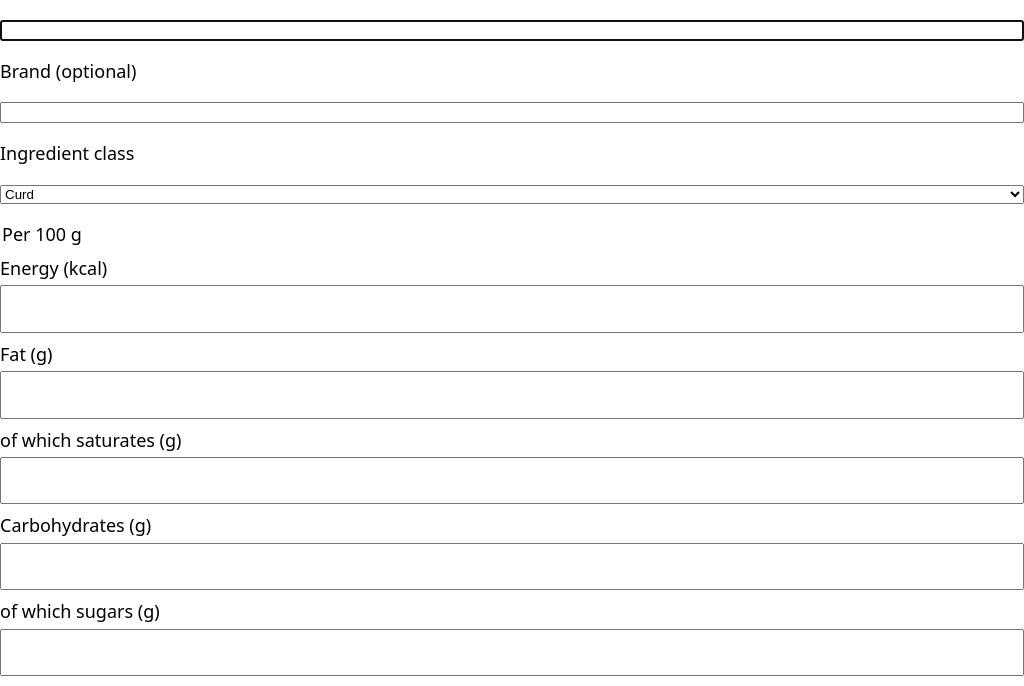
Test case: the product form › #64-2: a negative, malformed or too large value is named on its field and nothing is sent
Type "x" into the field labelled "Name".
click(512, 31); type("x")  # box [0, 20, 1023, 41]
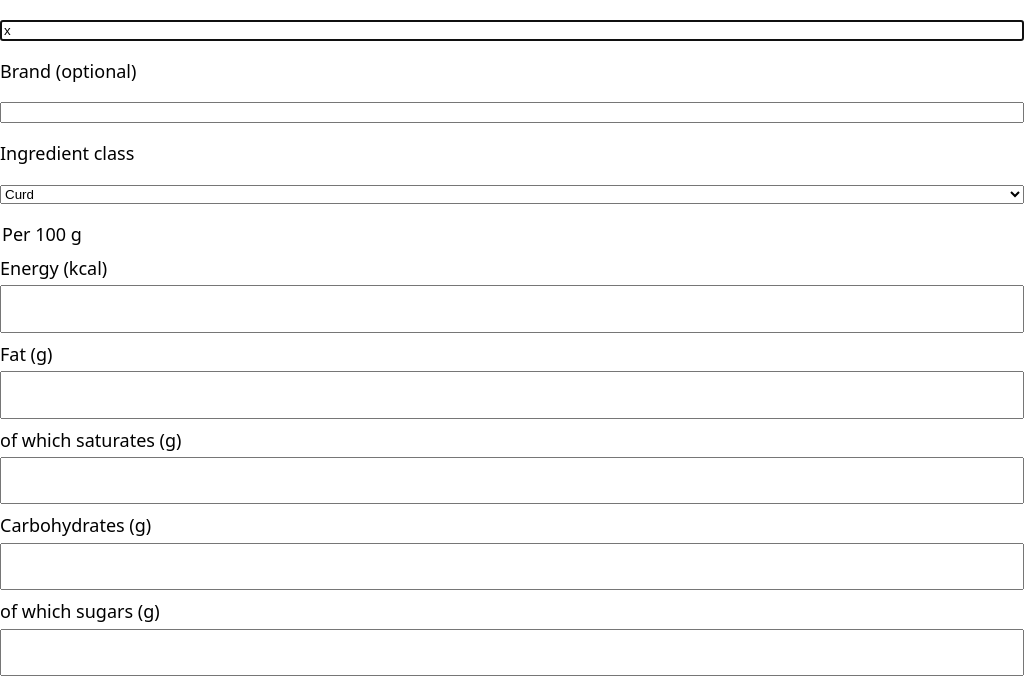
Type "-1" into the field labelled "Fat (g)".
click(512, 395); type("-1")  # box [0, 371, 1023, 418]
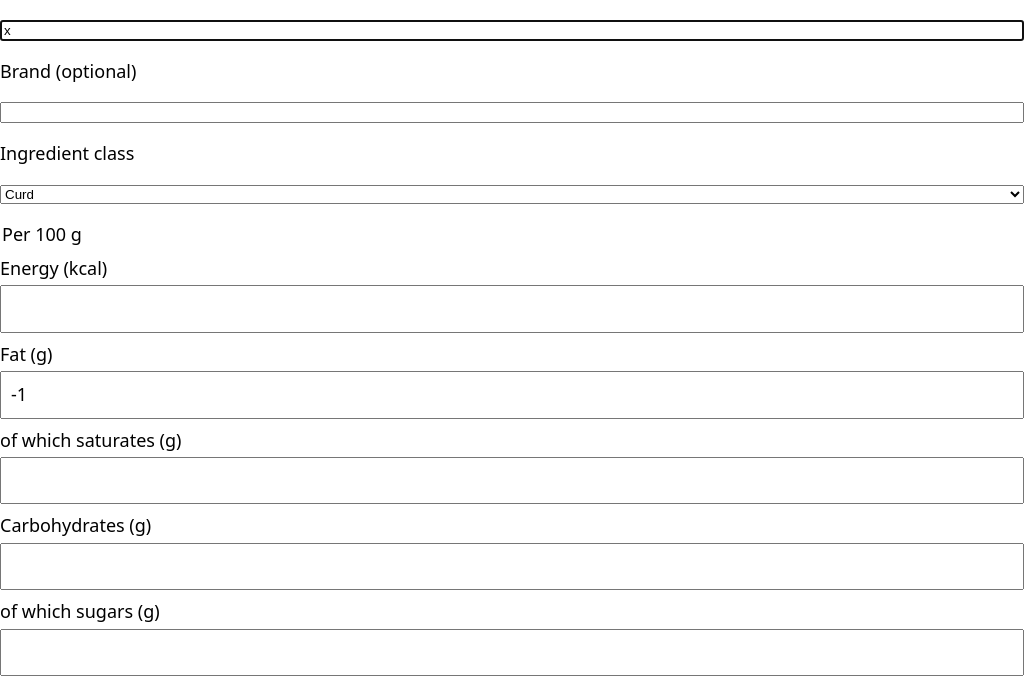
Type "abc" into the field labelled "of which sugars (g)".
click(512, 652); type("abc")  # box [0, 629, 1023, 676]
(page scrolled)
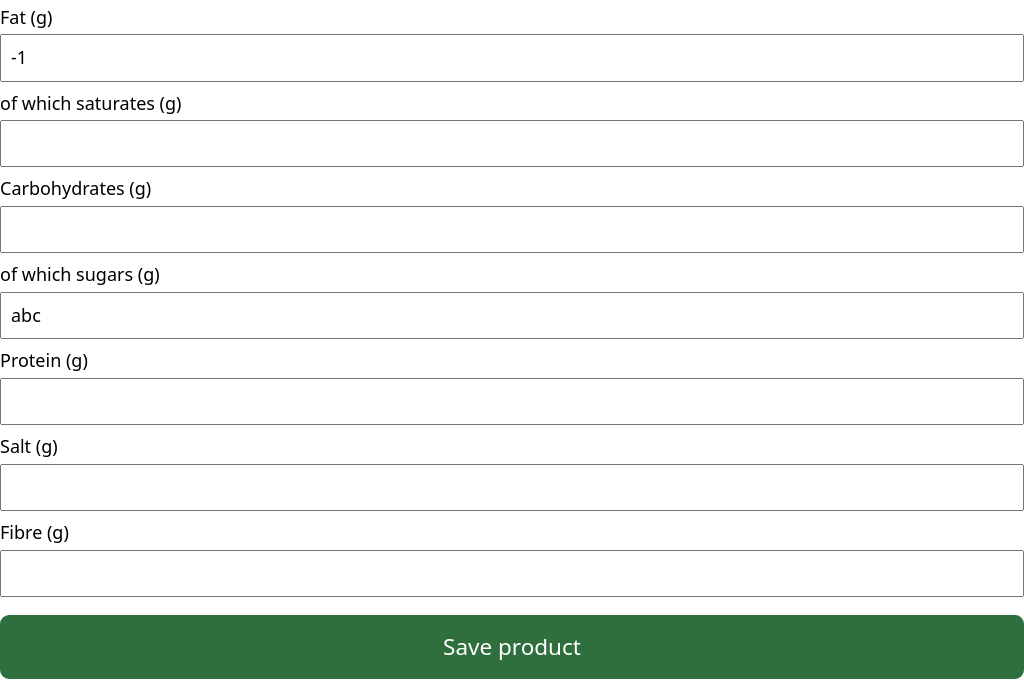
Type "101" into the field labelled "Salt (g)".
click(512, 487); type("101")  # box [0, 464, 1023, 511]
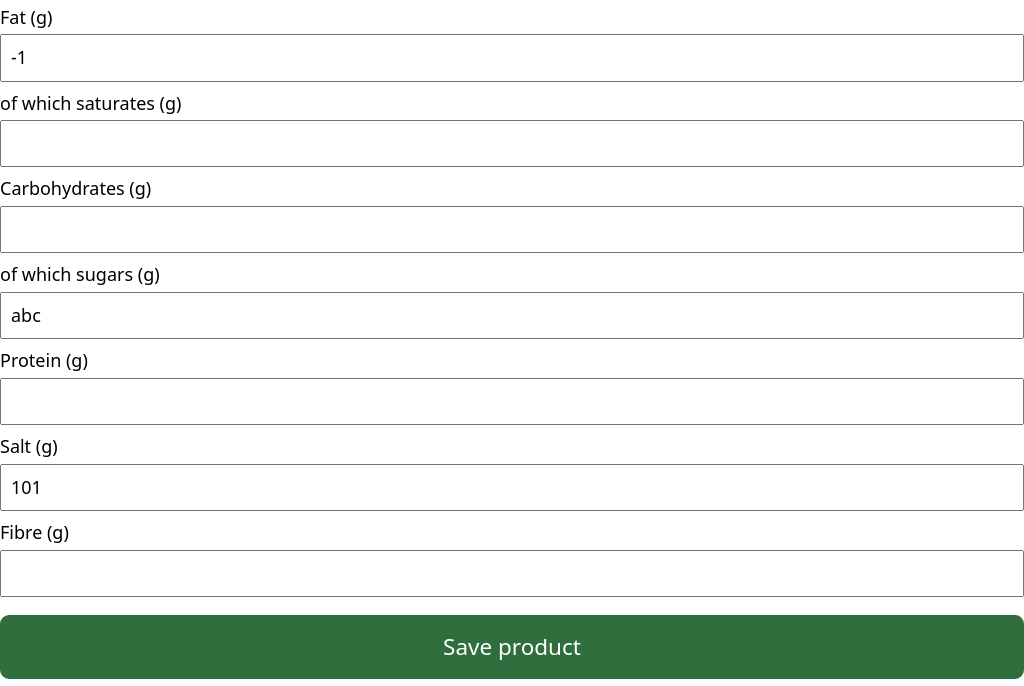
Click the button "Save product".
click(512, 647)  # box [0, 615, 1023, 679]
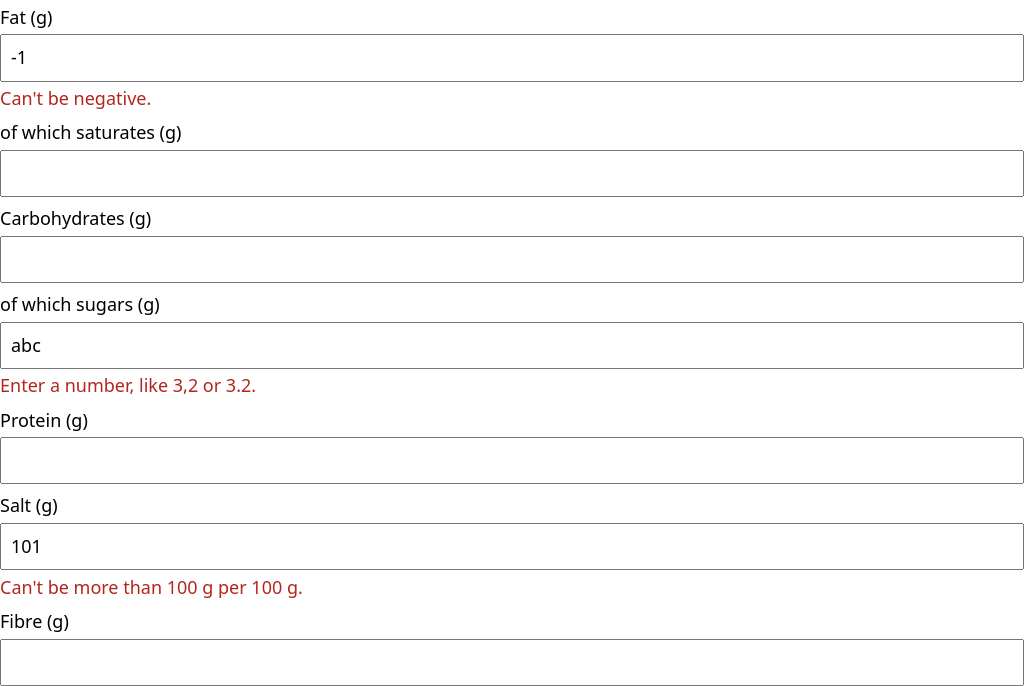
Expected: the text "Can't be negative." is shown, [0, 86, 151, 110]
Expected: the text "Enter a number, like 3,2 or 3.2." is shown, [0, 373, 256, 397]
Expected: the text "Can't be more than 100 g per 100 g." is shown, [0, 575, 303, 599]
